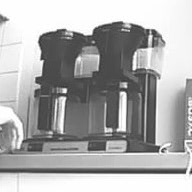empty coffee: (86, 81, 142, 137)
